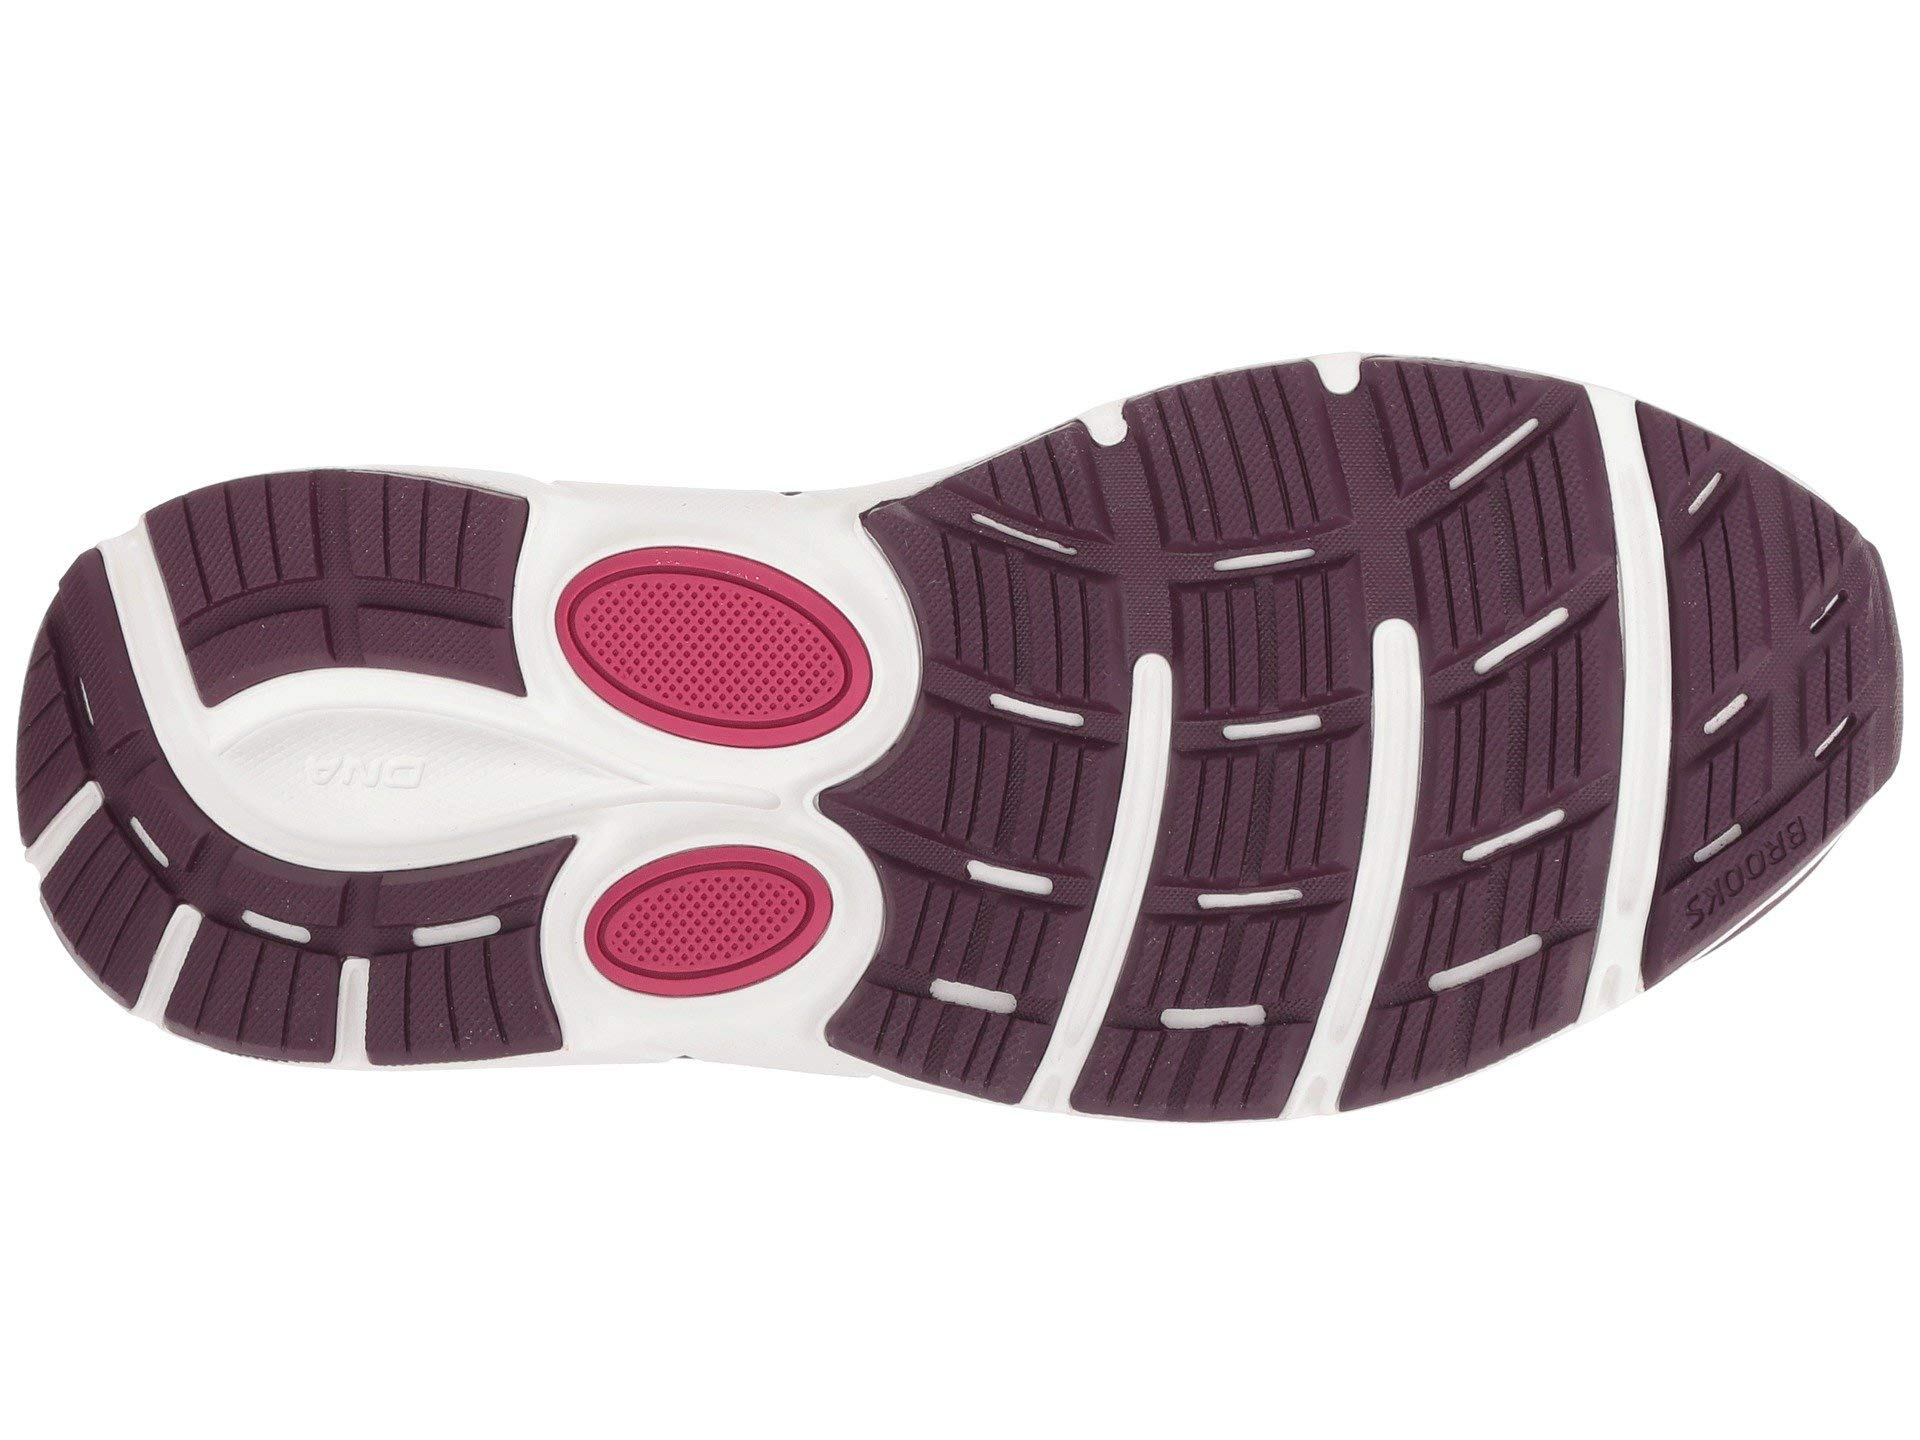circle: (565, 511, 860, 749), (587, 835, 841, 1004)
quad: (958, 461, 1604, 1026), (565, 511, 860, 749), (1680, 496, 1879, 791), (160, 472, 516, 613), (587, 835, 841, 1004), (1657, 788, 1835, 991), (162, 905, 346, 1066), (355, 939, 582, 1063), (2, 628, 112, 791)
text: (1657, 788, 1835, 991), (286, 725, 428, 814)
triangle: (2, 628, 112, 791)
